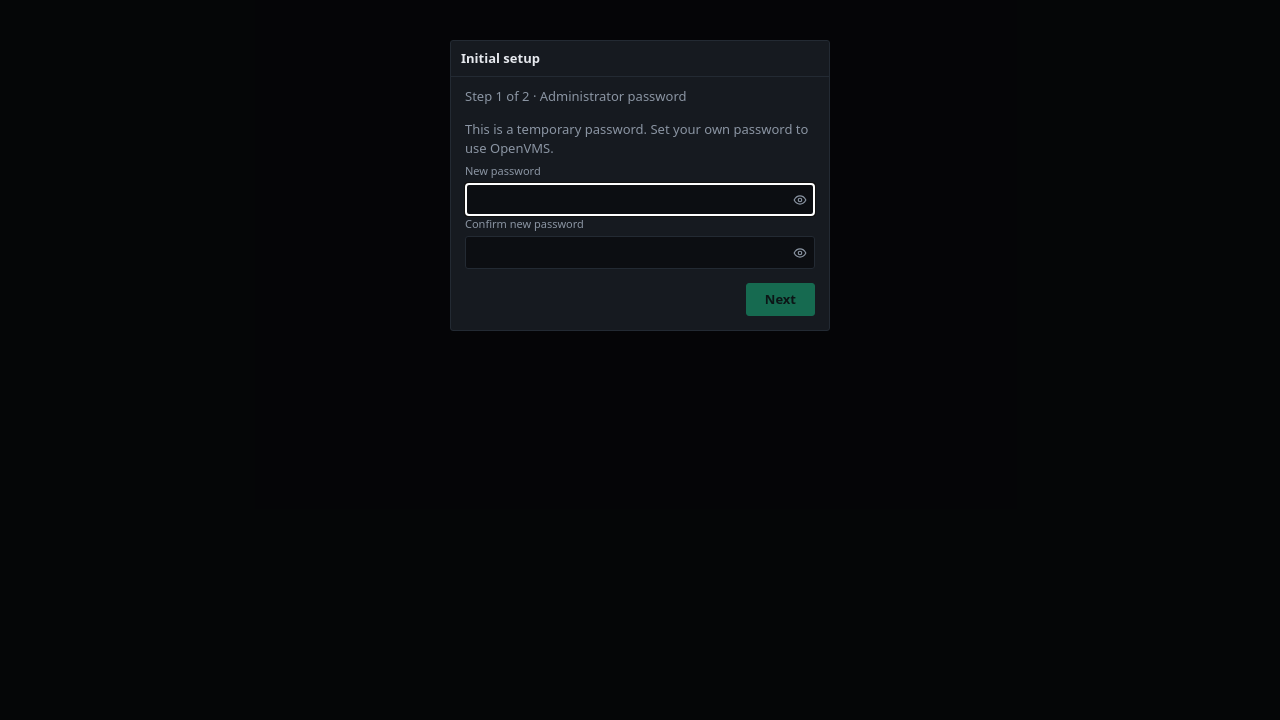
Test case: OnboardingWizard (spec 2026-10-19) › Next changes the password with the login temporary one and opens step 2 with defaults
Type "senha-nova-longa" into the password field labelled "New password" at coordinates (640, 200), box [465,183,815,216]
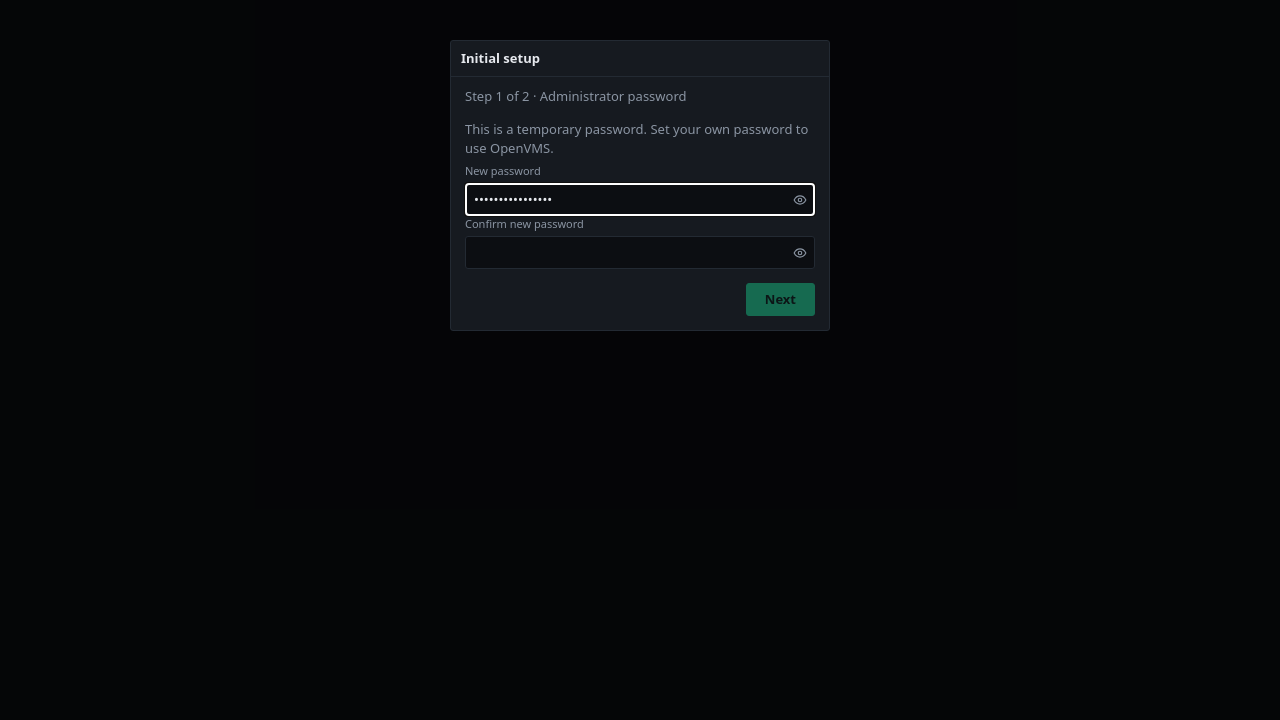
Type "senha-nova-longa" into the password field labelled "Confirm new password" at coordinates (640, 252), box [465,236,815,269]
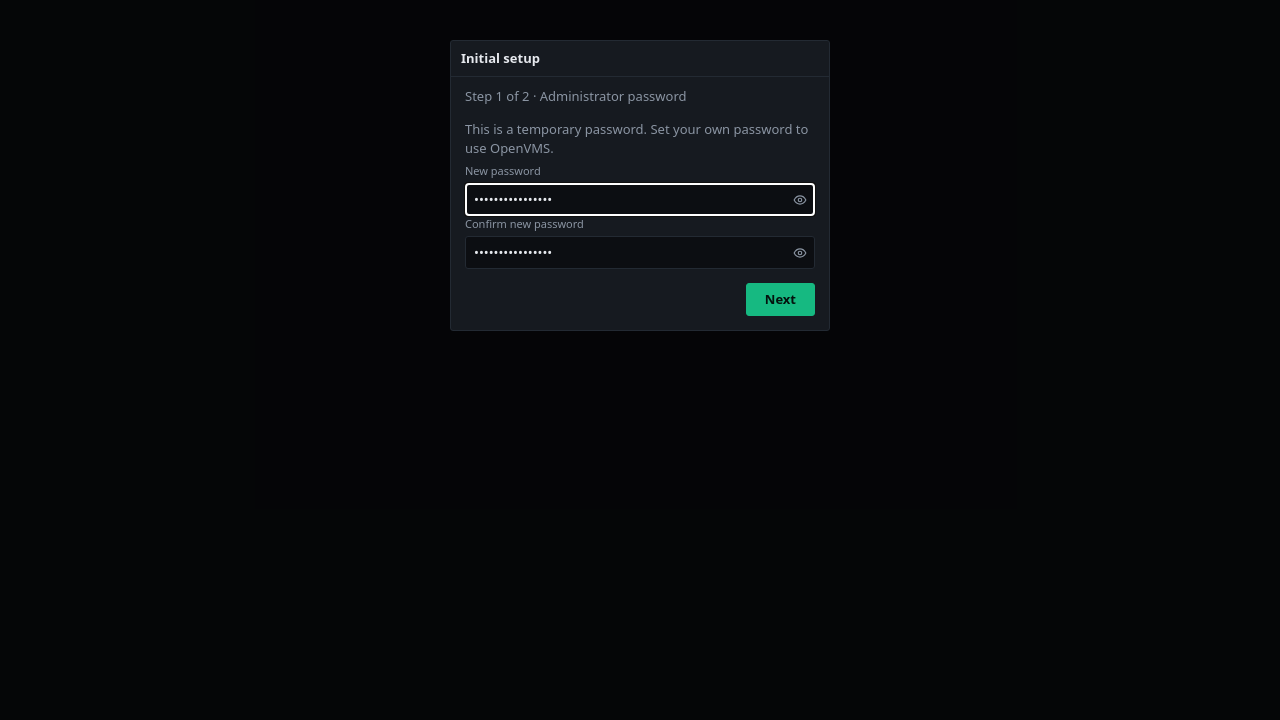
Click the button "Next" at coordinates (780, 299), box [746,283,815,316]
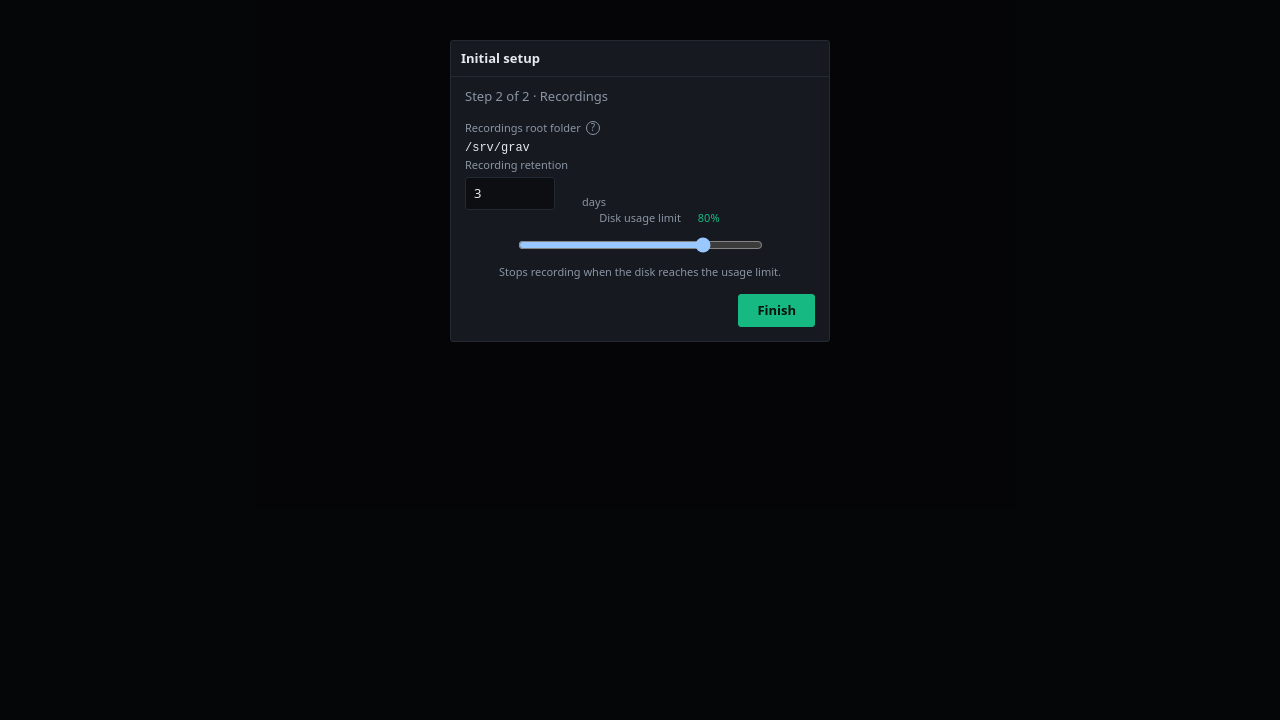
Expected: the text "Step 2 of 2 · Recordings" is shown, [465,87,608,105]
Expected: the number field labelled "Recording retention" holds "3", [465,177,555,210]
Expected: the slider holds "80", [518,230,762,260]
